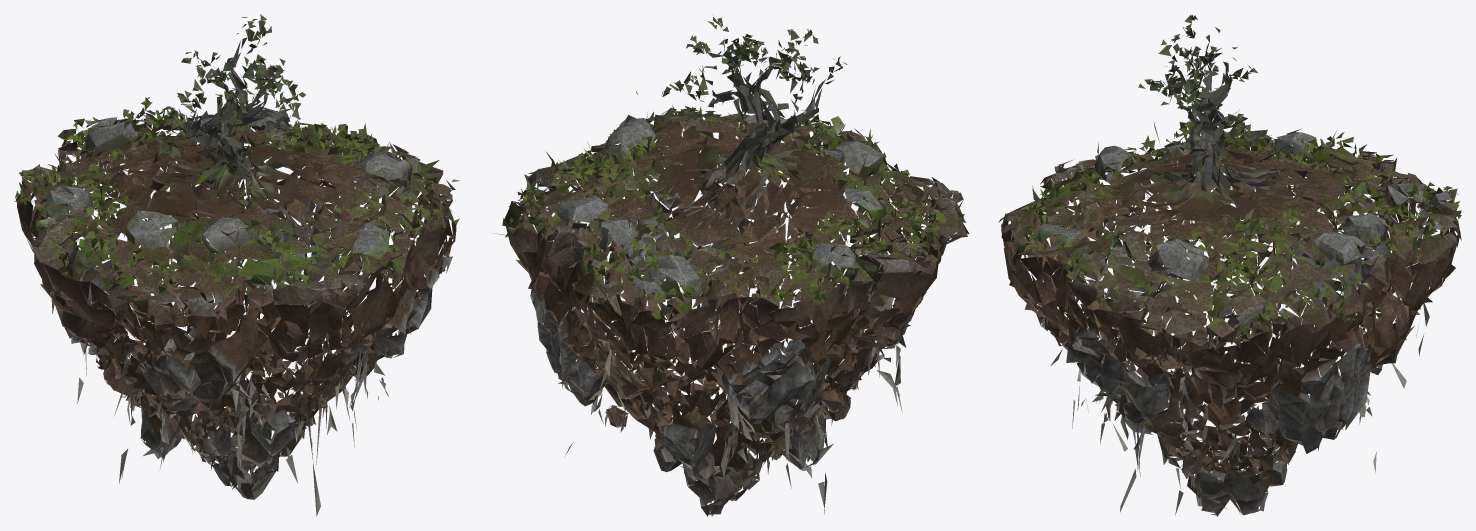
The model's file is asteroid2.glb.
The picture shows the model from 3 angles, left to right: view 1: azimuth 30°, elevation 25°; view 2: azimuth 150°, elevation 25°; view 3: azimuth 270°, elevation 25°; orthographic projection. The views are drawn at different scales.
Parts seen in each view (by area): view 1: Mesh_0; view 2: Mesh_0; view 3: Mesh_0.
Part boxes in pixels (x1,y1,x2,y2): Mesh_0: (14, 14, 459, 516); Mesh_0: (492, 14, 969, 516); Mesh_0: (998, 14, 1461, 516).
Size of the model in its own units: 1.97 by 2.23 by 1.96.
Materials: 1 (1 with a texture image).
